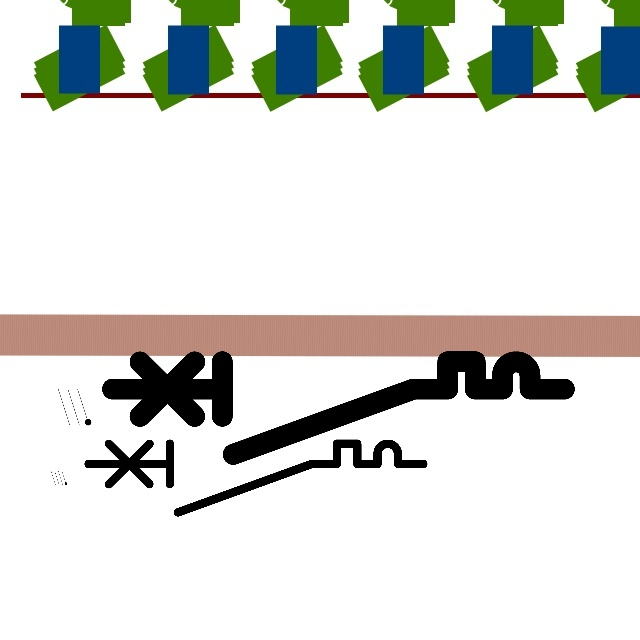interruptor_termomagnetico: (100, 350, 575, 466), (79, 435, 431, 521)
